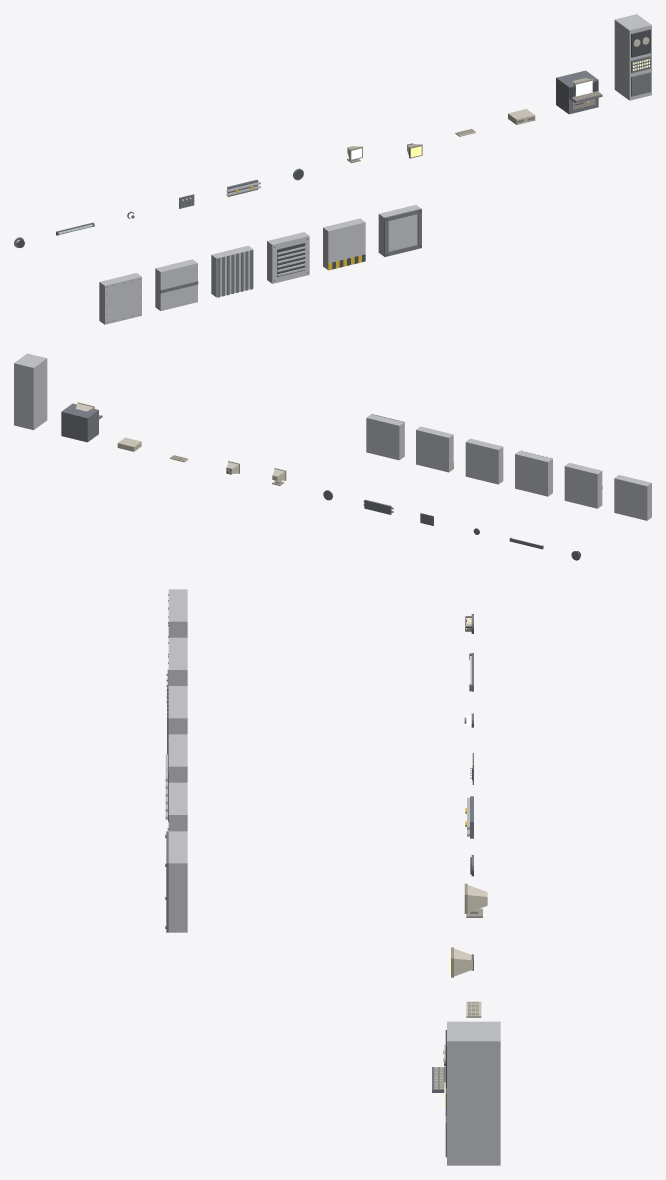
Rendered from station_models.fbx.
3 views of the same model, one above another, from view 1: azimuth 30°, elevation 25°; view 2: azimuth 150°, elevation 25°; view 3: azimuth 270°, elevation 25° (orthographic). The views are drawn at different scales.
Visible parts, largest first — view 1: decor_mainframe, wall_bulkhead, wall_corrugated, wall_hazard, wall_seamed, wall_vented, wall_plate_riveted, decor_terminal; view 2: decor_mainframe, wall_bulkhead, wall_vented, wall_seamed, wall_corrugated, wall_hazard, wall_plate_riveted, decor_terminal; view 3: decor_mainframe, wall_bulkhead, wall_vented, wall_corrugated, wall_seamed, wall_hazard, wall_plate_riveted.
Part boxes in pixels (<box>): decor_mainframe: <box>614,14,651,100</box>; wall_bulkhead: <box>378,205,421,256</box>; wall_corrugated: <box>211,245,253,297</box>; wall_hazard: <box>323,218,365,270</box>; wall_seamed: <box>155,259,198,310</box>; wall_vented: <box>267,232,309,283</box>; wall_plate_riveted: <box>99,273,141,324</box>; decor_terminal: <box>556,70,602,114</box>; decor_mainframe: <box>14,353,47,430</box>; wall_bulkhead: <box>366,414,404,460</box>; wall_vented: <box>465,438,503,484</box>; wall_seamed: <box>564,462,602,508</box>; wall_corrugated: <box>515,450,552,496</box>; wall_hazard: <box>416,426,453,472</box>; wall_plate_riveted: <box>614,475,651,520</box>; decor_terminal: <box>61,402,102,442</box>; decor_mainframe: <box>443,1021,500,1165</box>; wall_bulkhead: <box>165,831,187,932</box>; wall_vented: <box>165,734,187,830</box>; wall_corrugated: <box>167,686,187,754</box>; wall_seamed: <box>166,637,187,702</box>; wall_hazard: <box>168,782,187,831</box>; wall_plate_riveted: <box>168,589,187,663</box>.
Bounding box in the file's own units: 1693 × 230 × 439.
